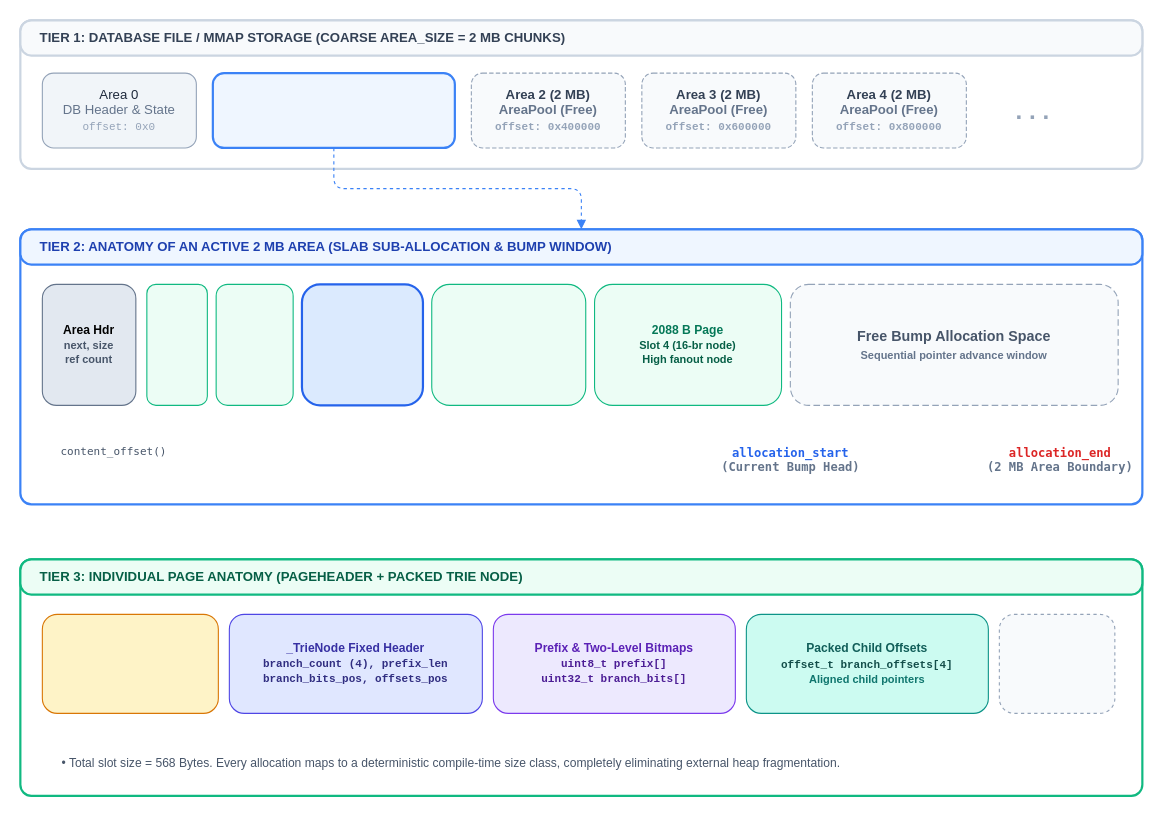
This 1162x815 diagram has some shape labels left out. Each missing label, with the centre of its shape:
"104 B Slot 0 2-br node" belongs at pixel 176 344.
"1056 B Page Slot 3 (10-br node) PageHeader + Leaf" belongs at pixel 508 344.
"160 B Slot 1 3-br node" belongs at pixel 254 344.
"568 B Page Slot 2 (4-br node) PageHeader + Node [ZOOM TARGET]" belongs at pixel 362 344.
"ACTIVE SLAB AREA (2 MB) _MemManager Active Area Sequential bump allocation" belongs at pixel 333 110.
"PageHeader (8 Bytes) uint8_t slot_id (2) uint16_t used (540 B)" belongs at pixel 129 663.
"Slack (28 B) Tuned by PAGE_SIZES" belongs at pixel 1056 663.
